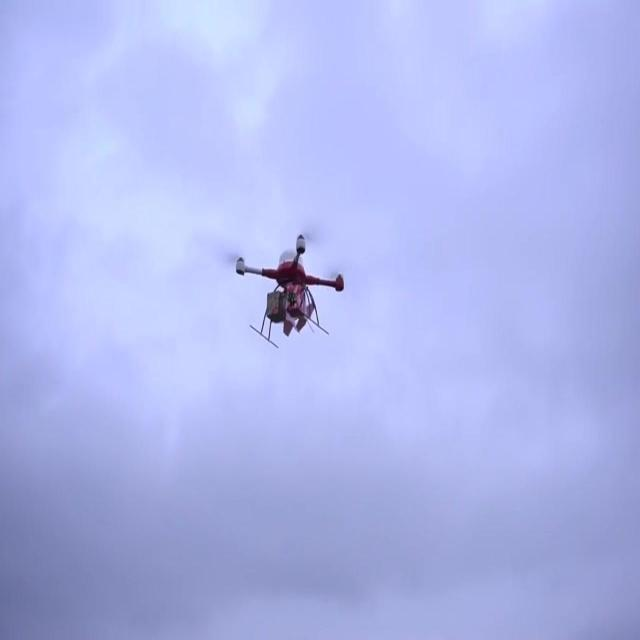drone: (230, 231, 346, 349)
